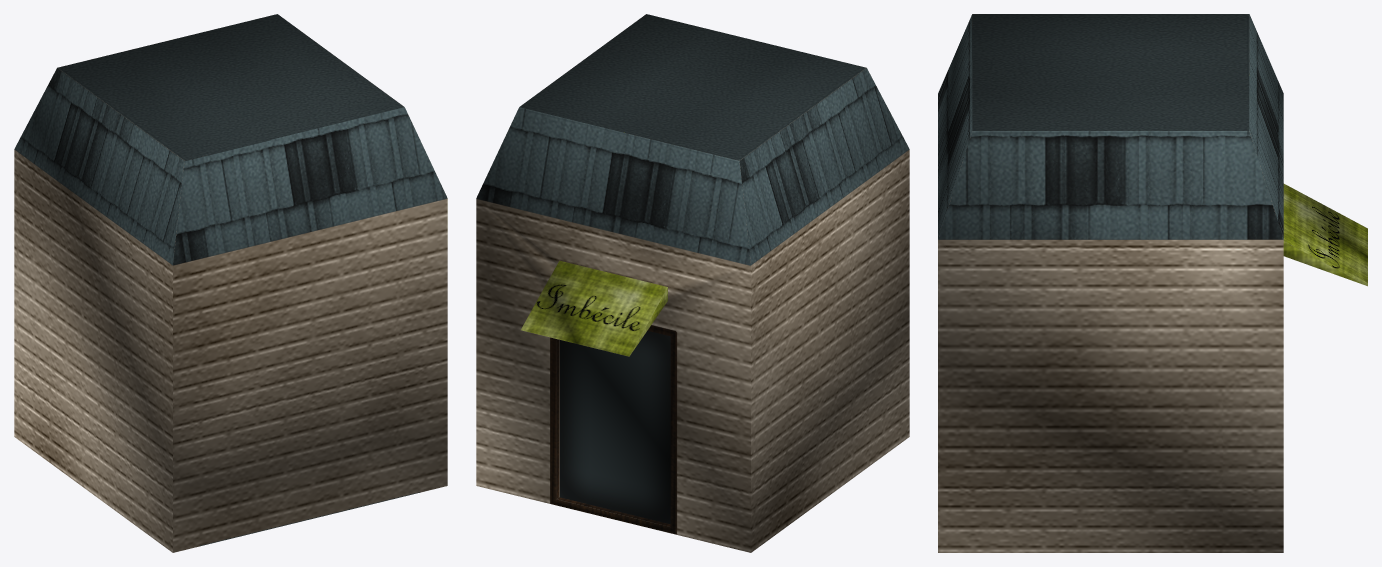
File: building_19.obj
3 renders of one model, left to right at view 1: azimuth 30°, elevation 25°; view 2: azimuth 150°, elevation 25°; view 3: azimuth 270°, elevation 25°, orthographic. The views are drawn at different scales.
Parts seen in each view (by area): view 1: Cube3_copy11; view 2: Cube3_copy11; view 3: Cube3_copy11.
Boxes of the visible parts, x1,y1,x2,y2 form: Cube3_copy11: [14, 14, 447, 552]; Cube3_copy11: [476, 14, 909, 552]; Cube3_copy11: [938, 14, 1367, 552].
Size of the model in its own units: 274 by 356 by 341.
1 material, 1 textured.
